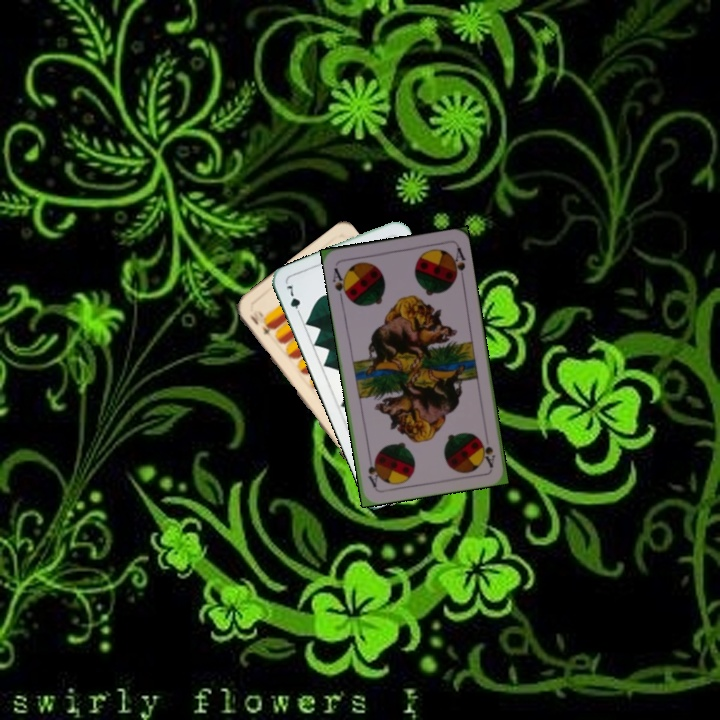E10: (245, 311, 276, 341)
G7: (282, 279, 304, 319)
SA: (329, 263, 352, 303), (477, 435, 498, 470)
